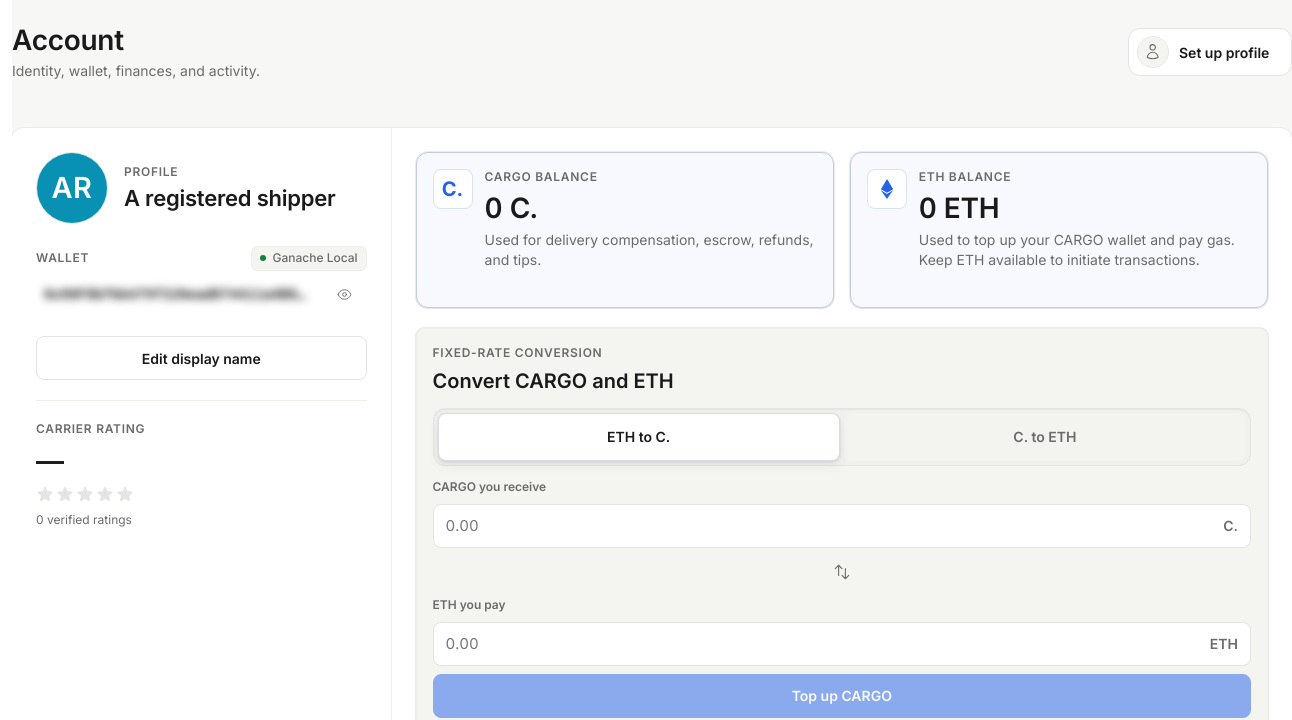
Account › masks the wallet by default, toggles visibility, and copies from the address itself
The width and height of the screenshot is (1292, 720).
Expected: the message named "Current network: Ganache Local" reads "Ganache Local", x1=272 y1=250 x2=358 y2=265
Click the button named "Show wallet address" at (345, 294), box x1=323 y1=272 x2=367 y2=316
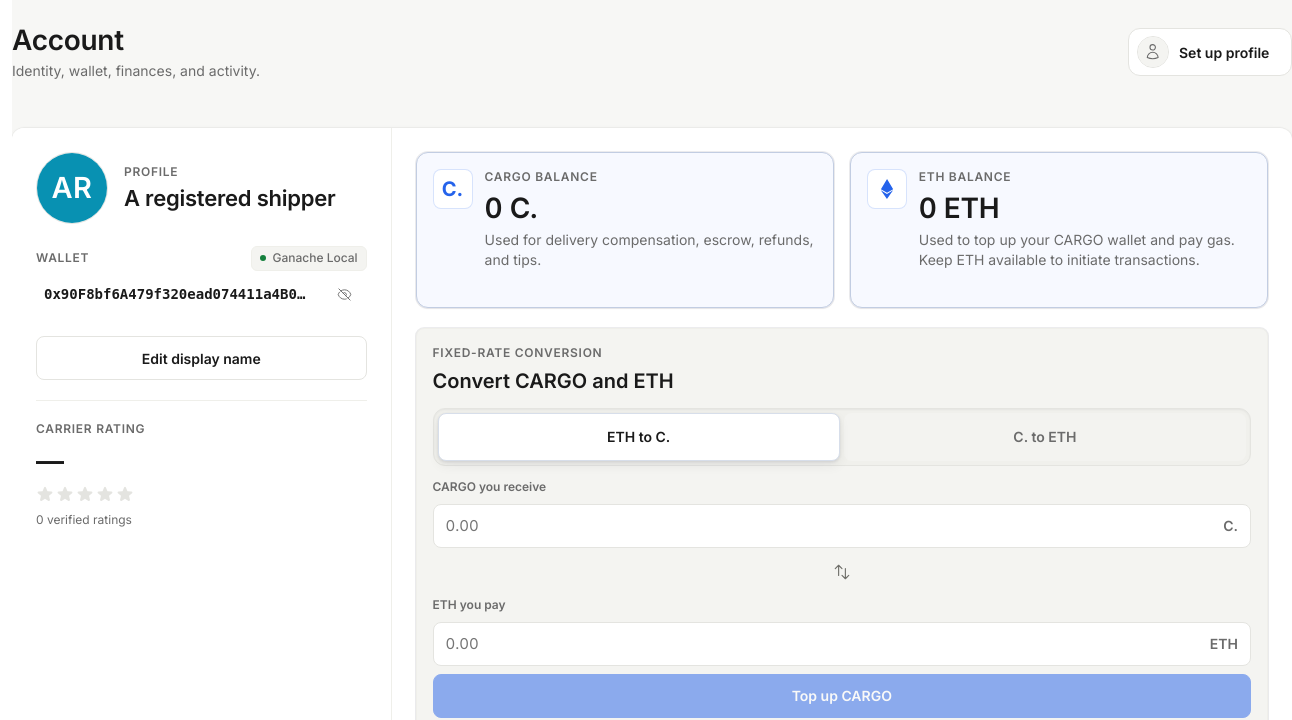
Expected: the text "0x90F8bf6A479f320ead074411a4B0e7944Ea8c9C1" is shown, x1=44 y1=284 x2=311 y2=305
Expected: the button named "Hide wallet address" is shown, x1=323 y1=272 x2=367 y2=316
Click the button with aria-label "Copy wallet address" at (177, 294), box x1=36 y1=272 x2=319 y2=316
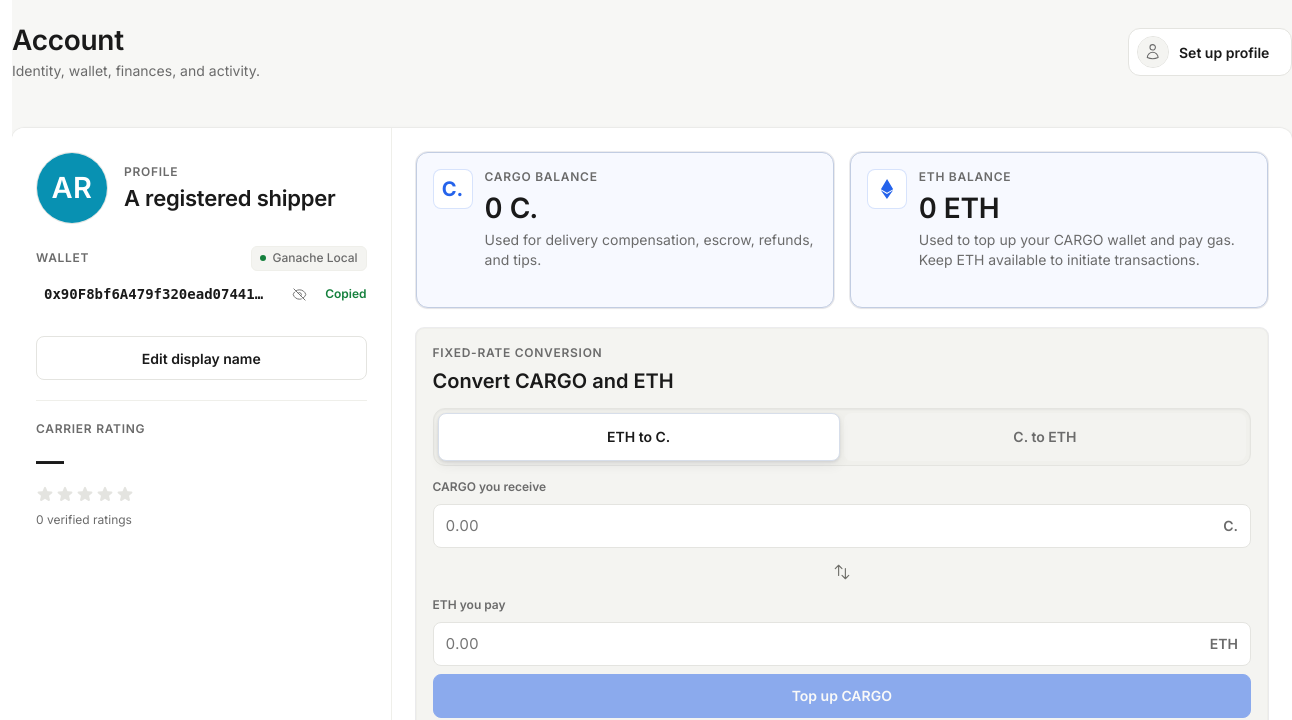
Expected: the text "Copied" is shown, x1=325 y1=285 x2=367 y2=303
